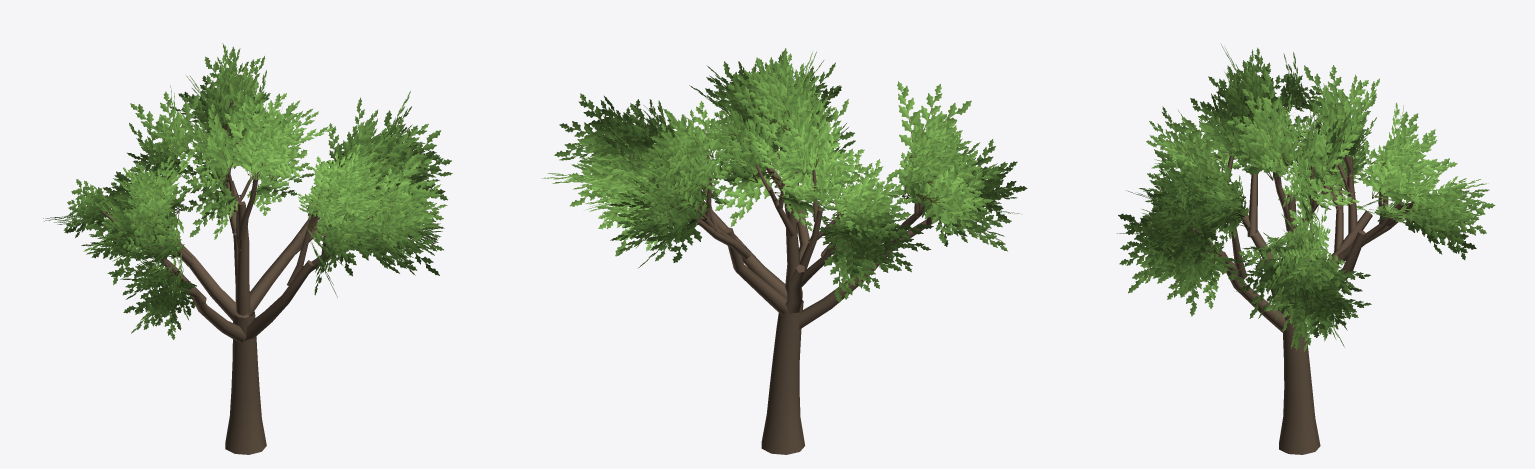
Rendered from oak_2.glb.
3 views of the same model, side by side, from view 1: azimuth 30°, elevation 25°; view 2: azimuth 150°, elevation 25°; view 3: azimuth 270°, elevation 25° (orthographic). The views are drawn at different scales.
Visible parts, largest first — view 1: oak_2; view 2: oak_2; view 3: oak_2.
Boxes of the visible parts, left/top/right/bottom form: oak_2: left=43, top=43, right=452, bottom=454; oak_2: left=541, top=48, right=1027, bottom=454; oak_2: left=1117, top=43, right=1495, bottom=454.
Bounding box in the file's own units: 11.1 × 8.93 × 8.94.
2 materials, 1 textured.
